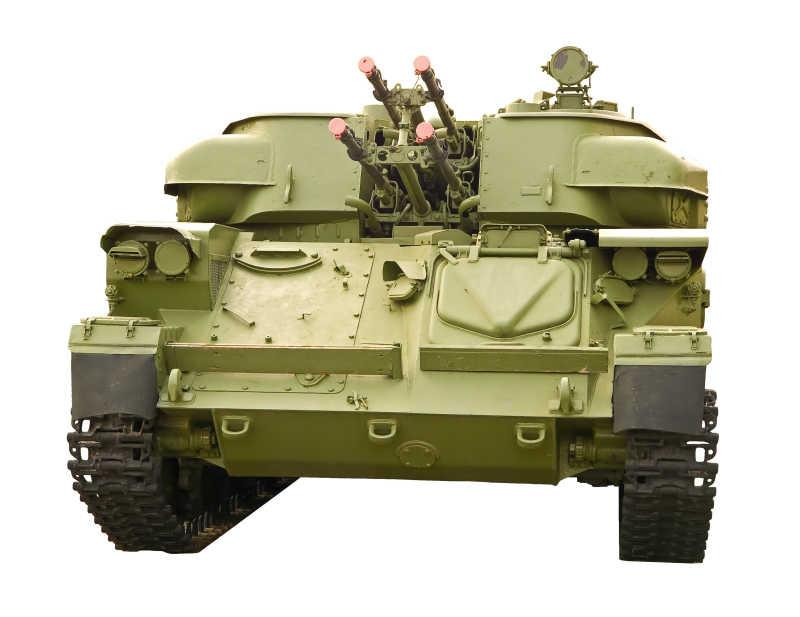MIL_SPG: (69, 47, 719, 562)
